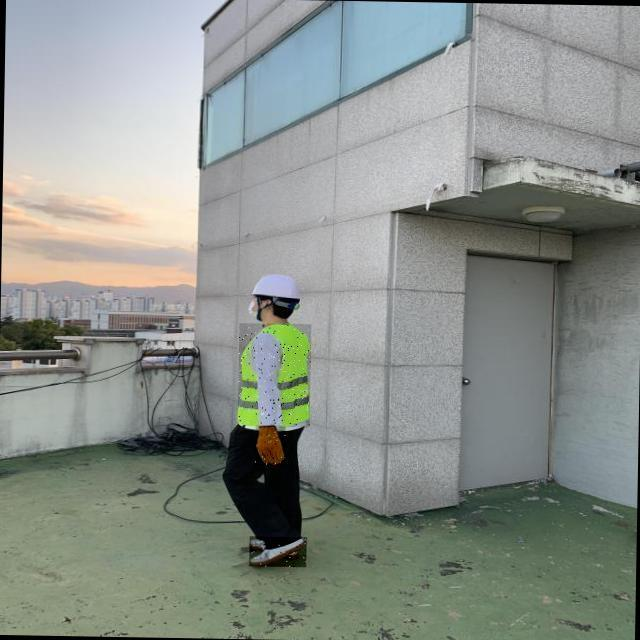Gloves: (255, 425, 286, 466)
Helmet: (249, 273, 304, 300)
Person: (218, 259, 321, 576)
Safety Boot: (249, 536, 307, 567)
Safety Vest: (237, 323, 311, 427)
